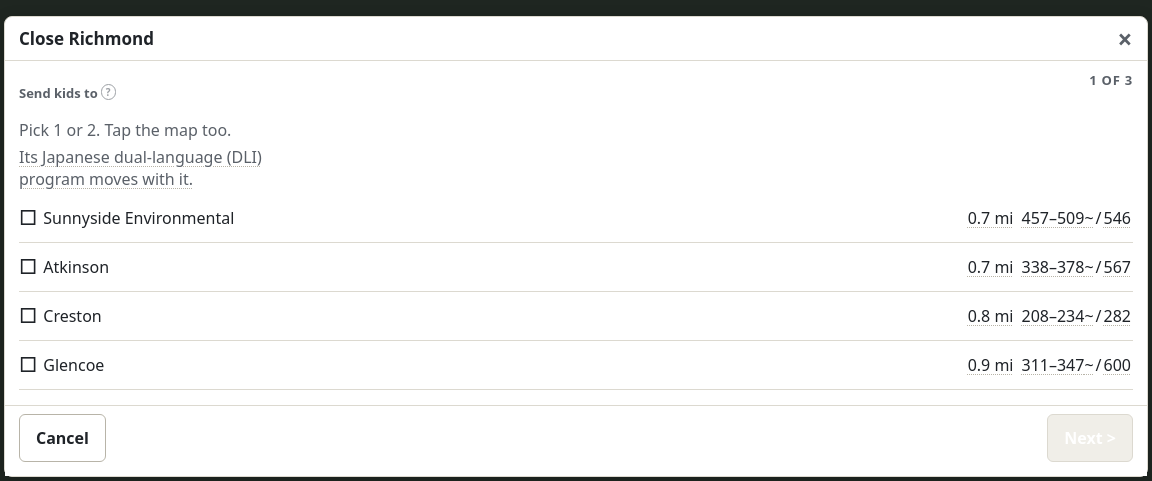
Test: CloseSendSheet › says where a closing DLI school's program goes
The width and height of the screenshot is (1152, 481).
Click the button "□ Glencoe".
click(74, 365)  # box top-left (19, 341), bottom-right (962, 389)
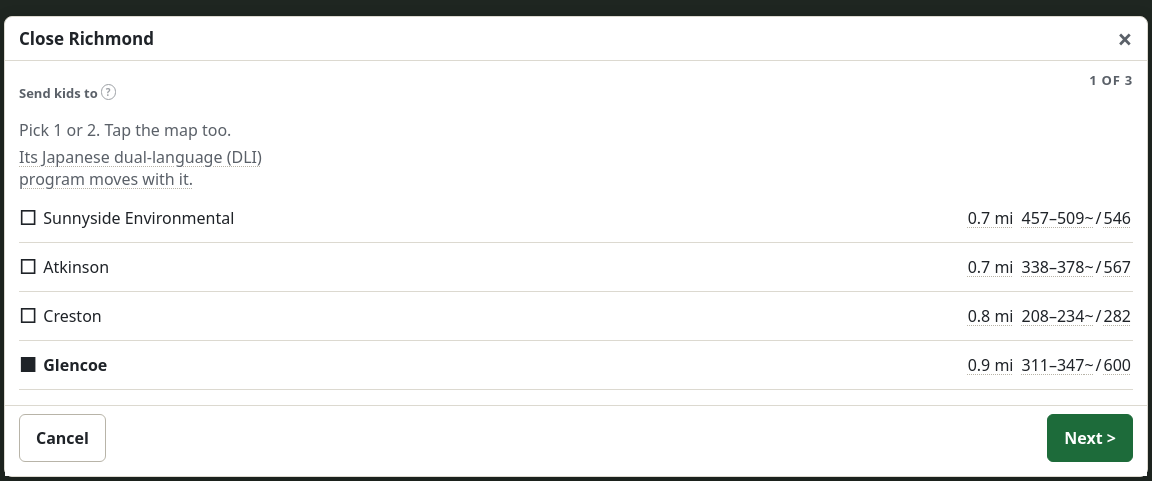
Click the button "Next >".
click(1090, 438)  # box top-left (1047, 414), bottom-right (1133, 462)
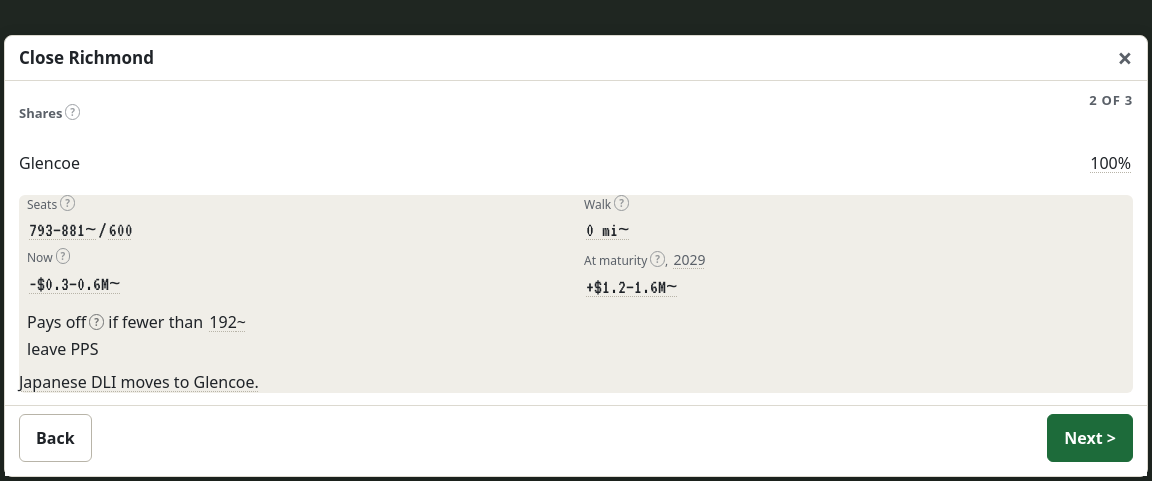
Expected: the element showing "Japanese DLI moves to Glencoe." is shown, top-left (19, 371), bottom-right (275, 393)
